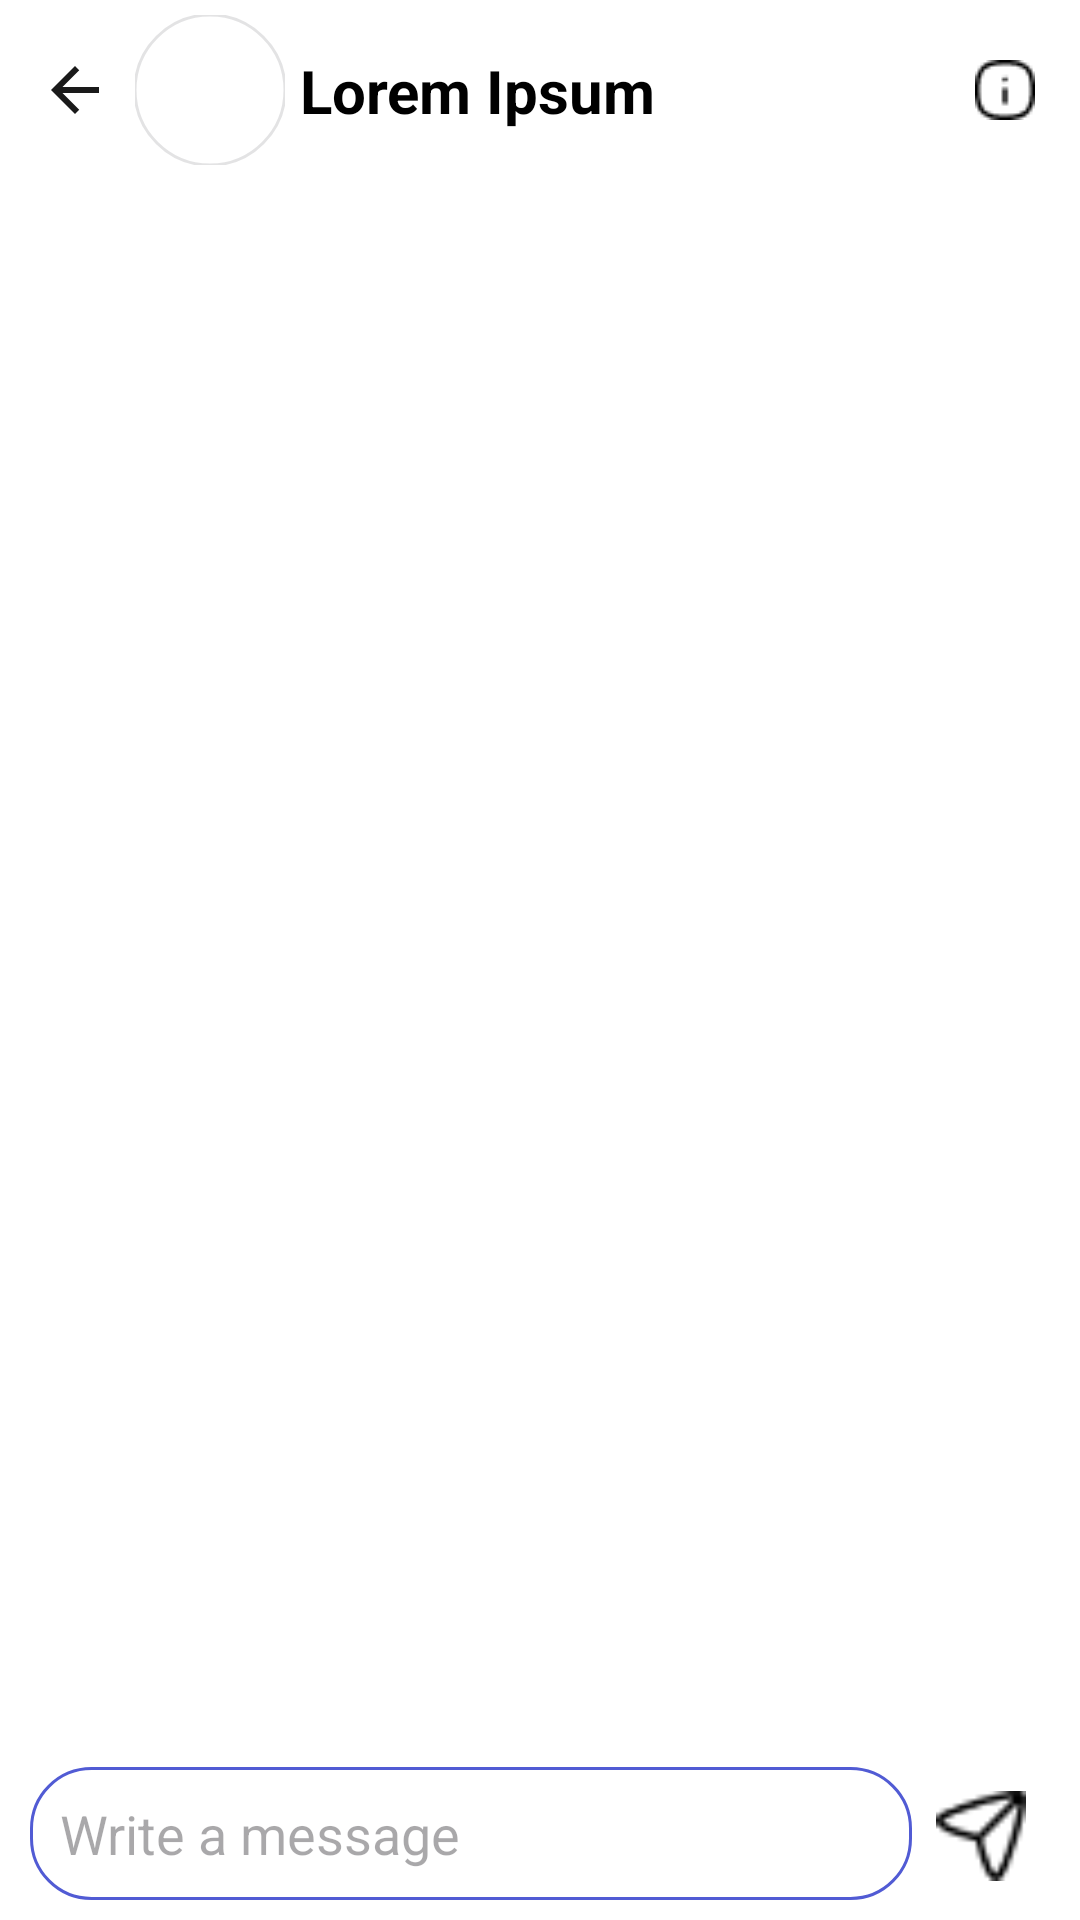

Icon click points for this 1080px×1920px phone screenshot, format (x=x, y=y):
arrow back: (x=75, y=90)
info: (x=1005, y=90)
send: (x=981, y=1836)
